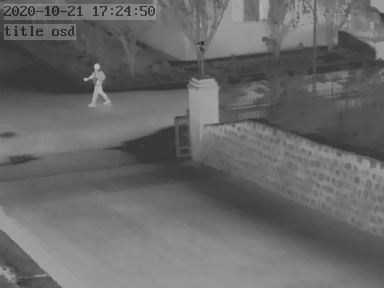person: (86, 60, 109, 104)
